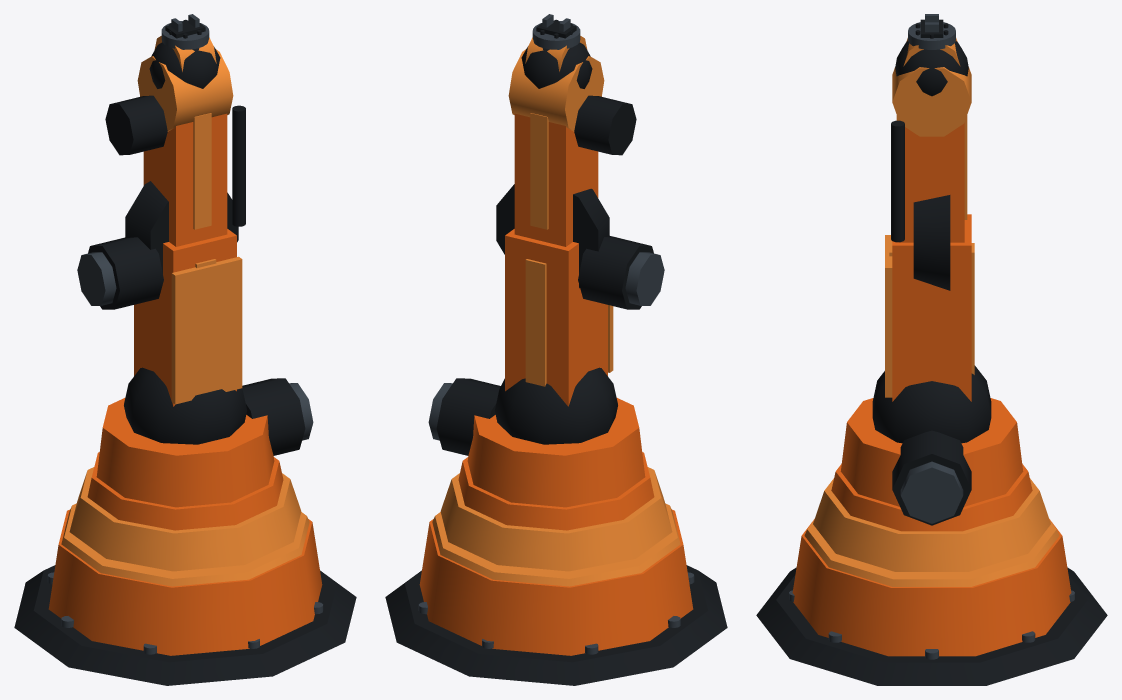
The picture shows the model from 3 angles, left to right: view 1: azimuth 30°, elevation 25°; view 2: azimuth 150°, elevation 25°; view 3: azimuth 270°, elevation 25°; orthographic projection.
Visible parts, largest first — view 1: base:pedestal, base:plate, link:shoulder, joint-cover:j1, link:upper-arm-panel, link:forearm, joint-cover:j2, link:upper-arm, joint-housing:j1, base:collar, joint-cover:j4, motor:j3 (+8 smaller); view 2: base:pedestal, base:plate, link:shoulder, link:upper-arm, joint-cover:j1, joint-cover:j2, link:forearm, joint-housing:j1, base:collar, joint-cover:j4, motor:j3, motor:j2 (+7 smaller); view 3: base:pedestal, base:plate, link:upper-arm, joint-cover:j1, link:shoulder, joint-cover:j2, link:forearm, joint-housing:j1, base:collar, joint-cover:j4, joint-cover:j3, motor:j2 (+6 smaller).
Part boxes in pixels (x1,y1,x2,y2): base:pedestal: [48, 509, 322, 655]; base:plate: [14, 565, 356, 685]; link:shoulder: [96, 398, 274, 507]; joint-cover:j1: [69, 467, 301, 571]; link:upper-arm-panel: [171, 256, 242, 404]; link:forearm: [143, 113, 227, 246]; joint-cover:j2: [124, 367, 247, 444]; link:upper-arm: [134, 229, 236, 406]; joint-housing:j1: [87, 452, 283, 530]; base:collar: [61, 503, 309, 586]; joint-cover:j4: [137, 49, 233, 131]; motor:j3: [88, 237, 163, 309]; base:pedestal: [419, 509, 693, 655]; base:plate: [385, 565, 727, 685]; link:shoulder: [467, 398, 645, 507]; link:upper-arm: [505, 229, 607, 406]; joint-cover:j1: [440, 467, 672, 571]; joint-cover:j2: [494, 367, 617, 444]; link:forearm: [514, 113, 598, 246]; joint-housing:j1: [458, 452, 654, 530]; base:collar: [432, 503, 680, 586]; joint-cover:j4: [508, 49, 604, 131]; motor:j3: [578, 236, 653, 309]; motor:j2: [436, 378, 500, 455]; base:pedestal: [792, 519, 1071, 656]; base:plate: [756, 567, 1107, 685]; link:upper-arm: [892, 214, 971, 401]; joint-cover:j1: [813, 478, 1050, 571]; link:shoulder: [840, 398, 1023, 506]; joint-cover:j2: [872, 365, 991, 443]; link:forearm: [899, 122, 964, 242]; joint-housing:j1: [831, 464, 1032, 531]; base:collar: [804, 521, 1059, 586]; joint-cover:j4: [892, 67, 971, 136]; joint-cover:j3: [913, 195, 950, 290]; motor:j2: [892, 430, 971, 525].
Bounding box in the file's own units: 0.9434 × 1.86 × 0.992.
